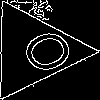O: (9, 25, 77, 82)
